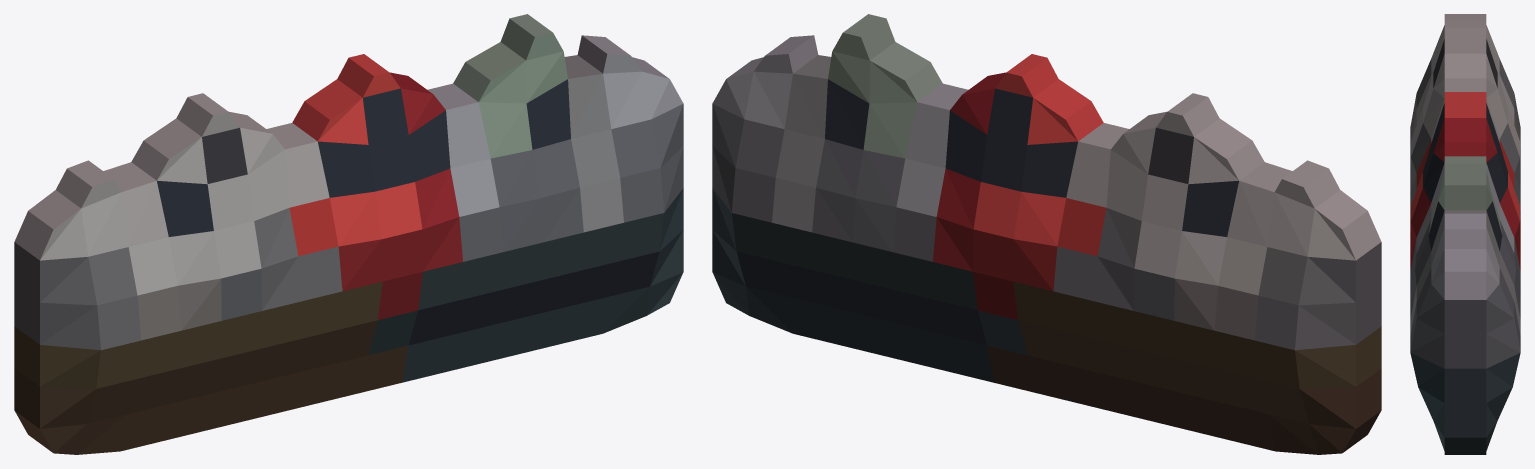
File: bear_trap.glb
3 renders of one model, left to right at view 1: azimuth 30°, elevation 25°; view 2: azimuth 150°, elevation 25°; view 3: azimuth 270°, elevation 25°, orthographic. The views are drawn at different scales.
Parts seen in each view (by area): view 1: bear_trap; view 2: bear_trap; view 3: bear_trap.
Part boxes in pixels (x1,y1,x2,y2): bear_trap: (14, 14, 683, 454); bear_trap: (712, 14, 1381, 454); bear_trap: (1410, 14, 1520, 454).
Size of the model in its own units: 1 by 0.465 by 0.1813.
Materials: 1 (1 with a texture image).
